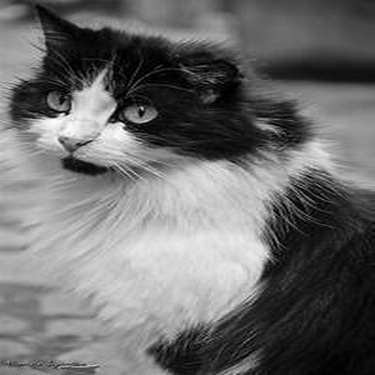cat: (3, 3, 361, 362)
